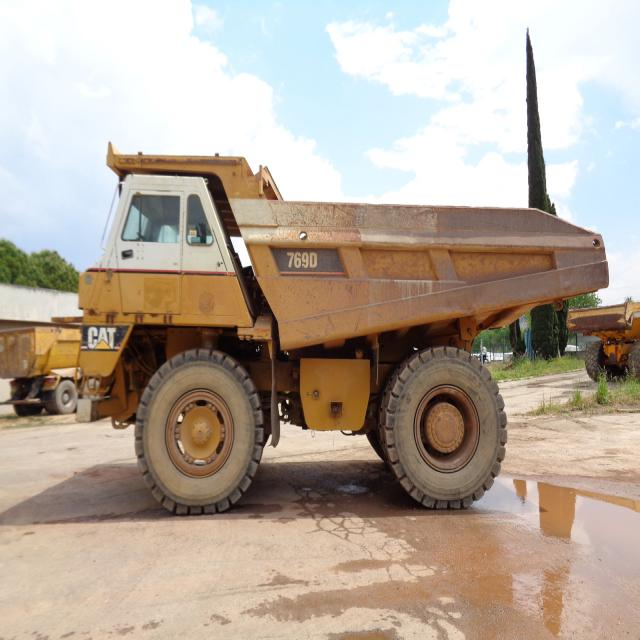dump_truck: (69, 135, 611, 509), (559, 305, 640, 379)
